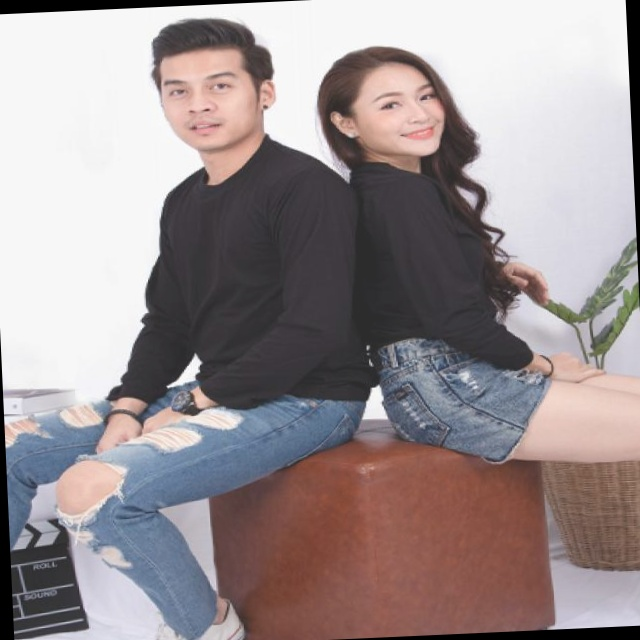Shorts: (369, 321, 640, 473)
ripped_pants: (3, 375, 376, 640)
